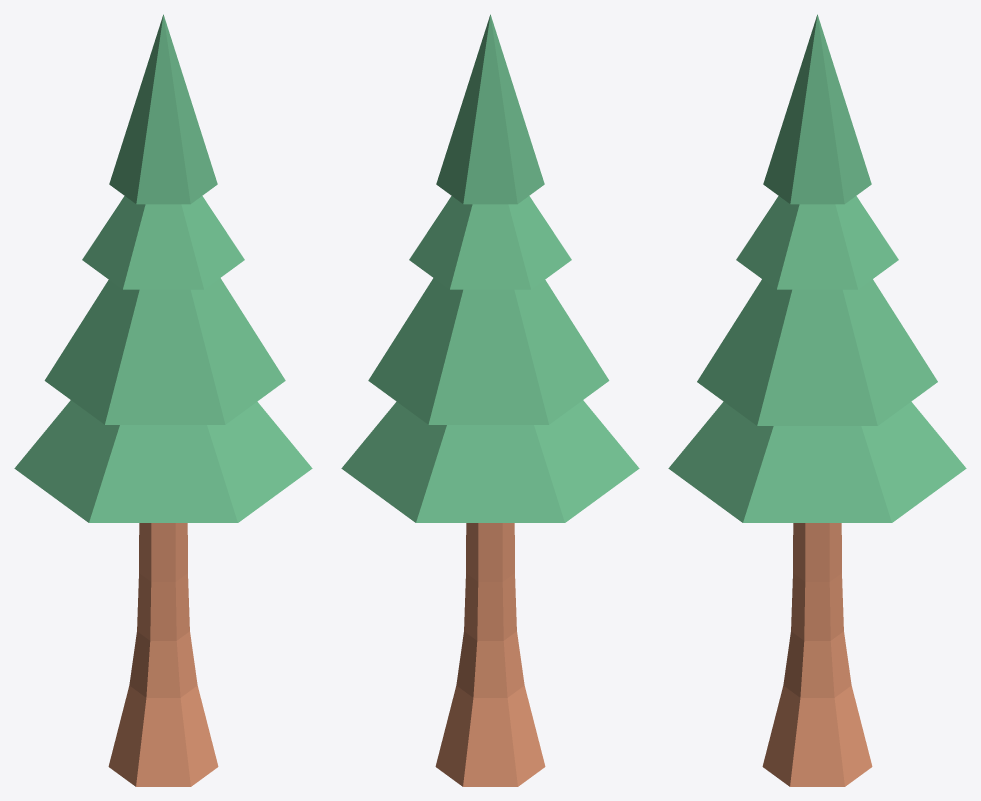
The model's file is bueno2.obj.
The picture shows the model from 3 angles, left to right: view 1: azimuth 30°, elevation 25°; view 2: azimuth 150°, elevation 25°; view 3: azimuth 270°, elevation 25°; orthographic projection.
Parts seen in each view (by area): view 1: Pine; view 2: Pine; view 3: Pine.
Part boxes in pixels (x1,y1,x2,y2): Pine: (14, 14, 312, 786); Pine: (341, 14, 639, 786); Pine: (668, 14, 966, 786).
Size of the model in its own units: 3.75 by 12.05 by 4.33.
